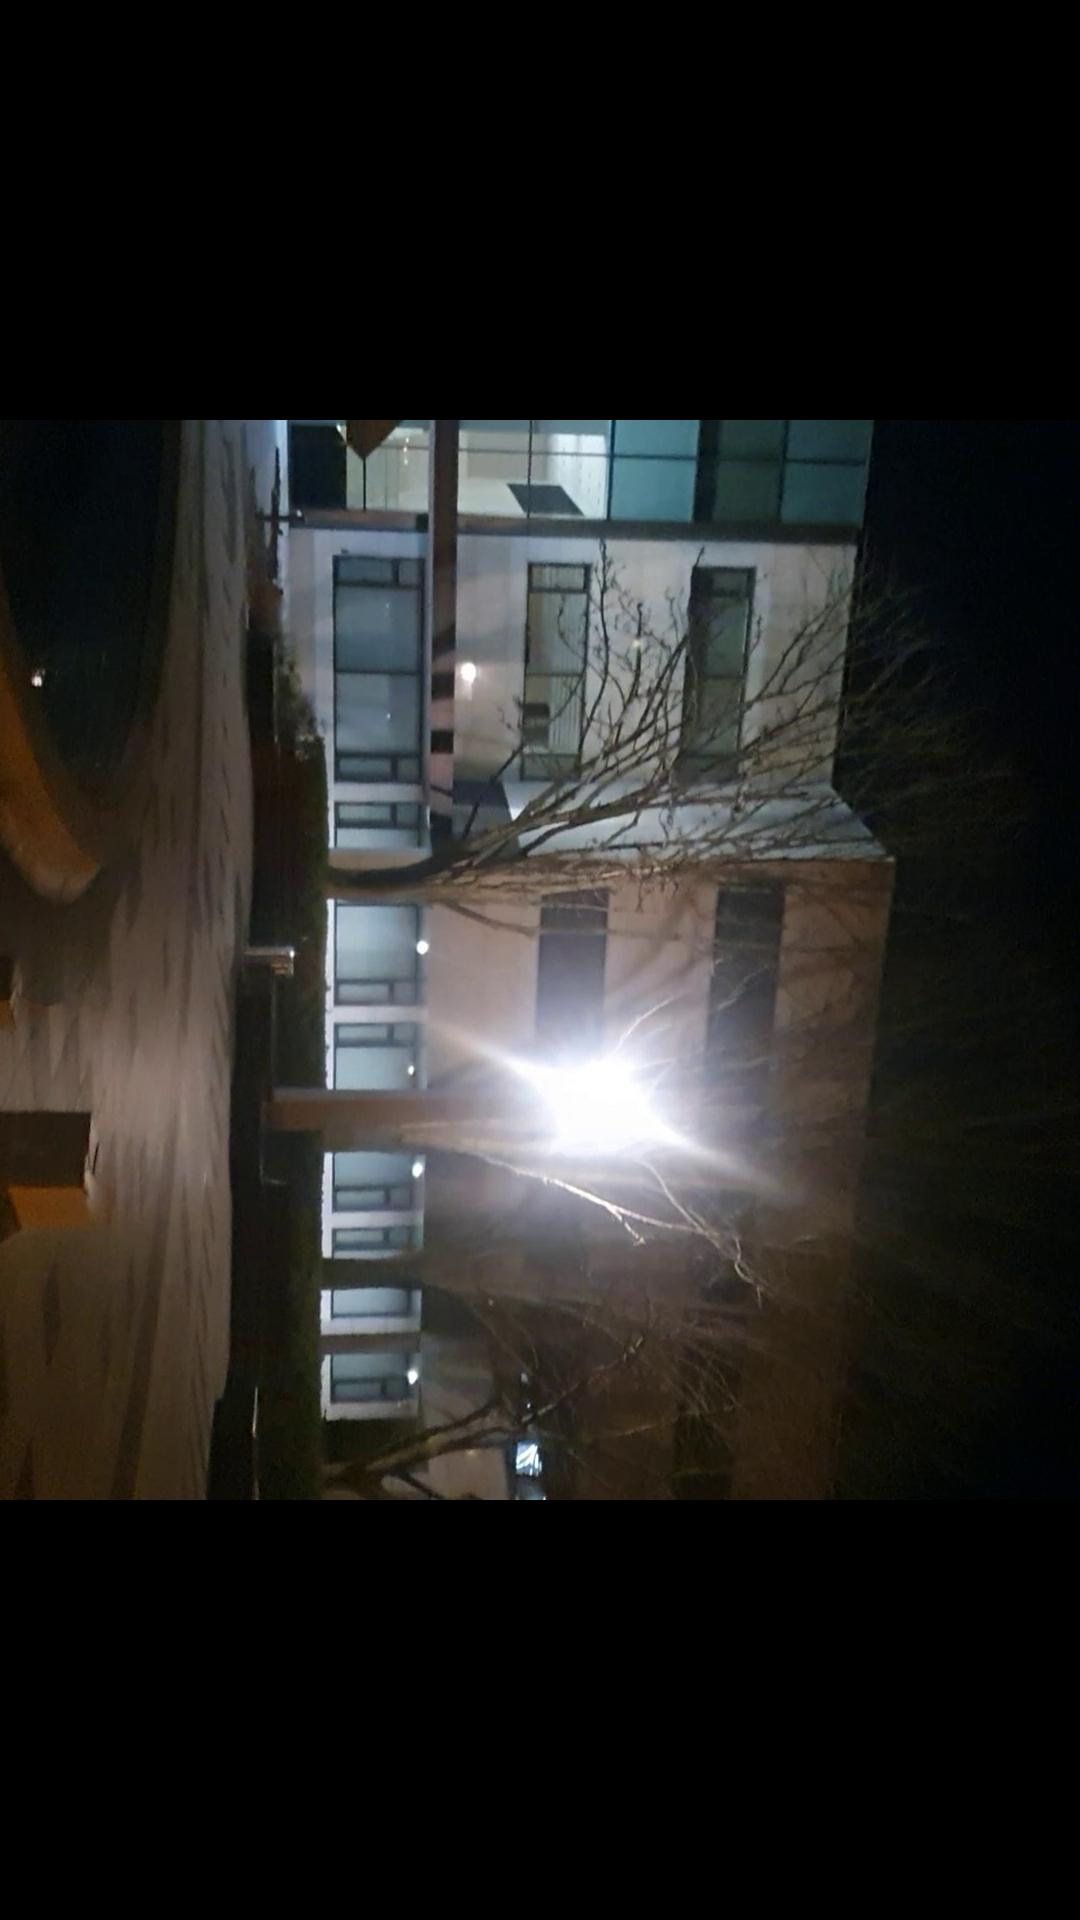Box: (0, 1106, 105, 1230), (0, 953, 26, 1030)
